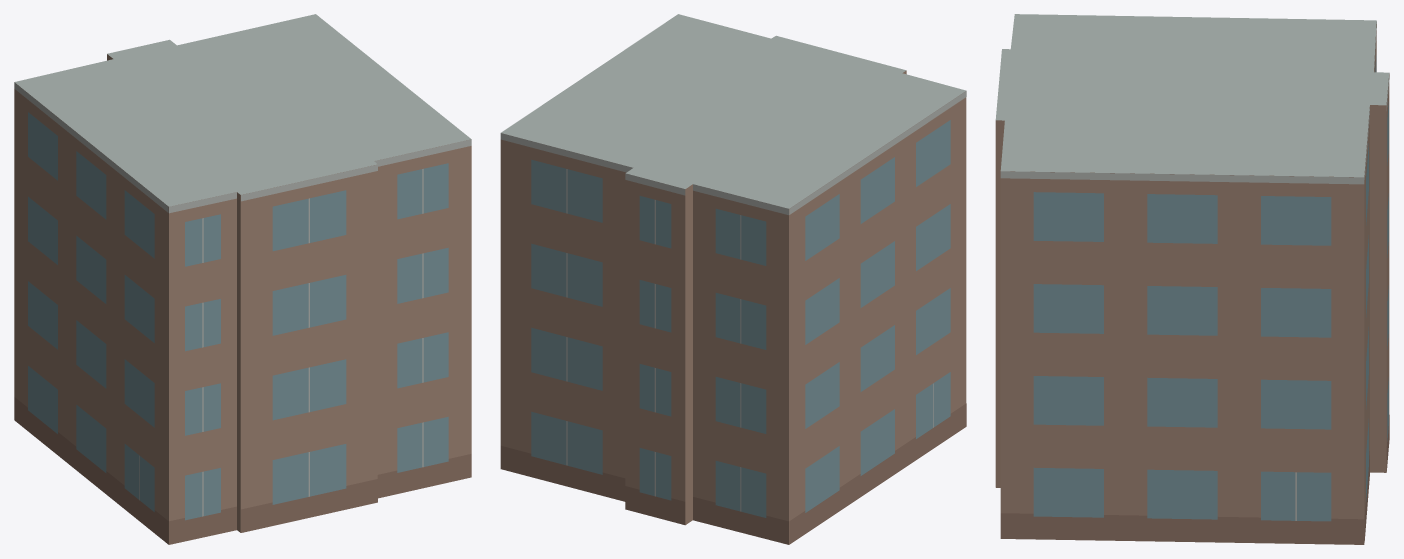
Rendered from survey-upis-32665303.glb.
3 renders of one model, left to right at view 1: azimuth 30°, elevation 25°; view 2: azimuth 150°, elevation 25°; view 3: azimuth 270°, elevation 25°, orthographic. The views are drawn at different scales.
Visible parts, largest first — view 1: survey-upis-32665303.tmp; view 2: survey-upis-32665303.tmp; view 3: survey-upis-32665303.tmp.
Boxes of the visible parts, bbox=[...] form: survey-upis-32665303.tmp: bbox=[14, 14, 471, 544]; survey-upis-32665303.tmp: bbox=[500, 14, 966, 544]; survey-upis-32665303.tmp: bbox=[995, 14, 1389, 544].
Size of the model in its own units: 12.01 by 12.6 by 12.24.
